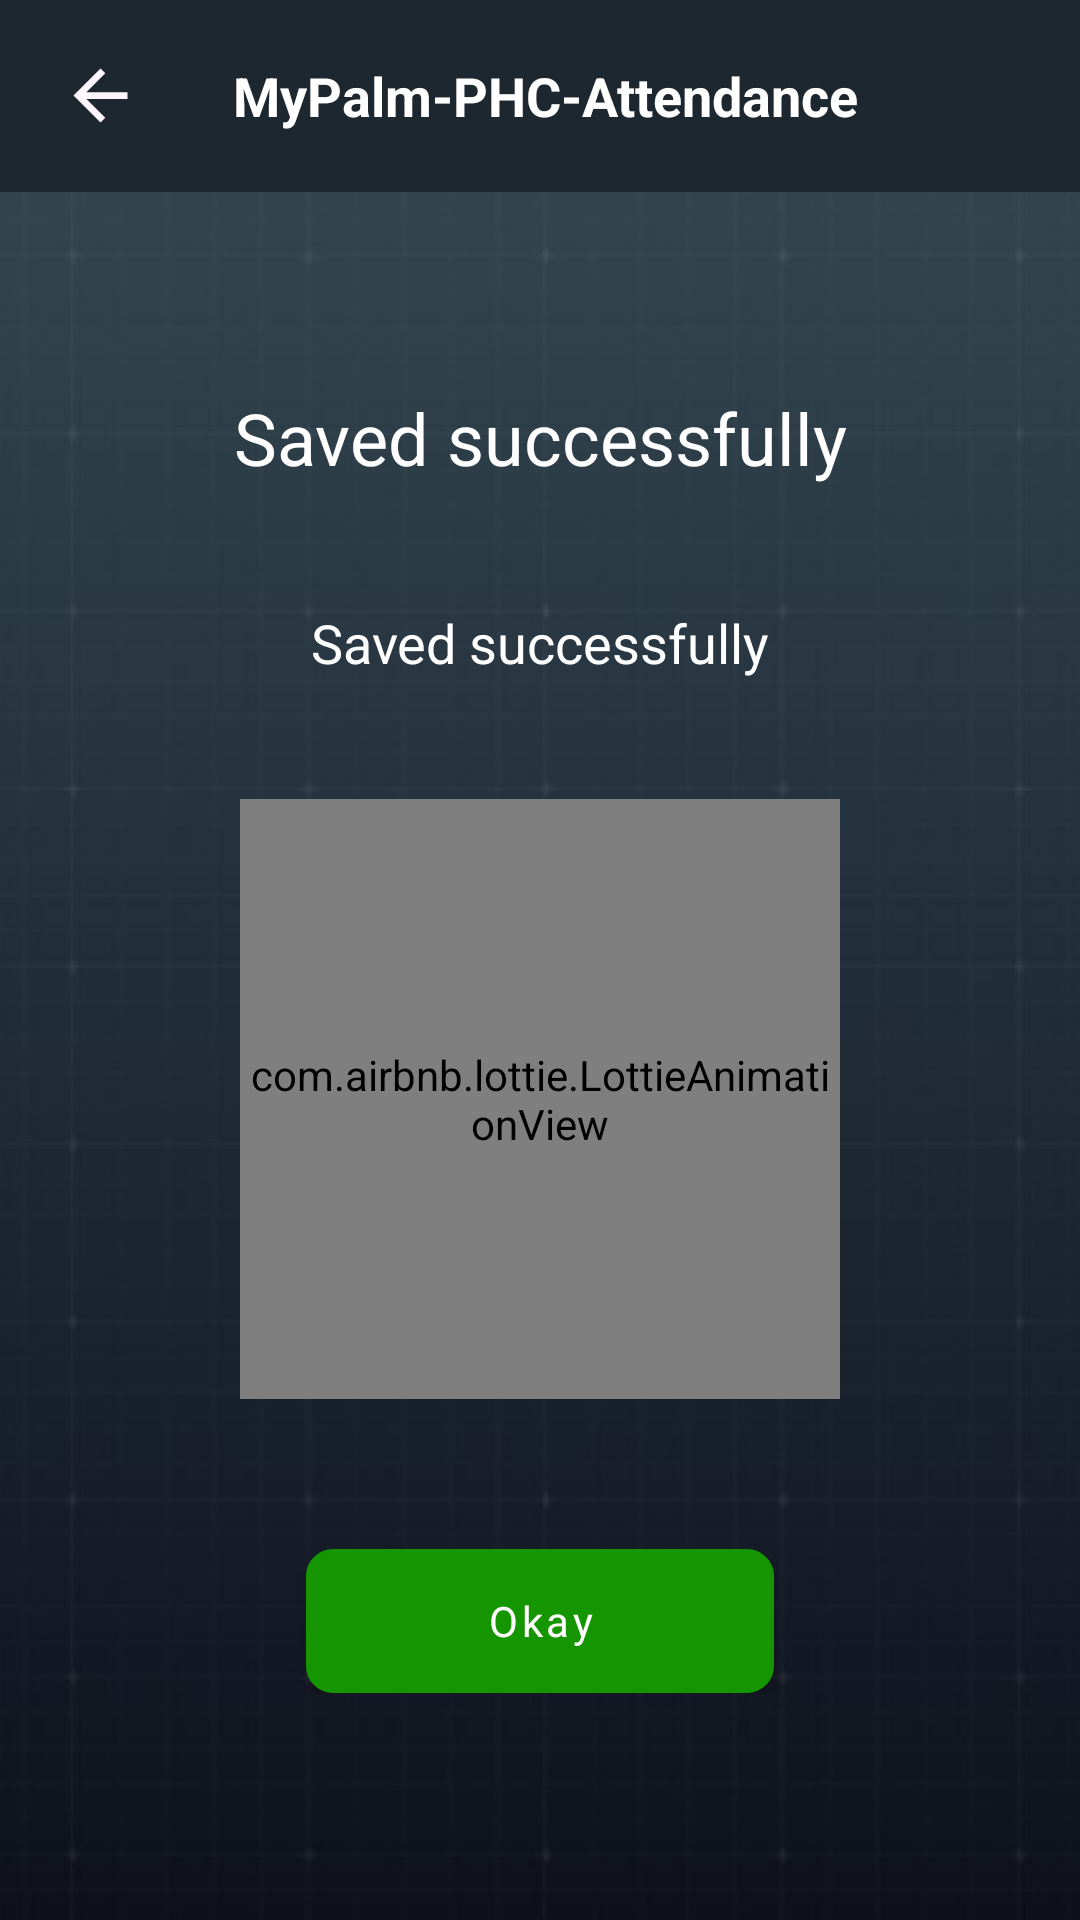

Screen size 1080w x 1920h. Icon name, then its box in pixels as region(x1, y1, x2, y2):
arrow back: region(73, 68, 128, 123)
